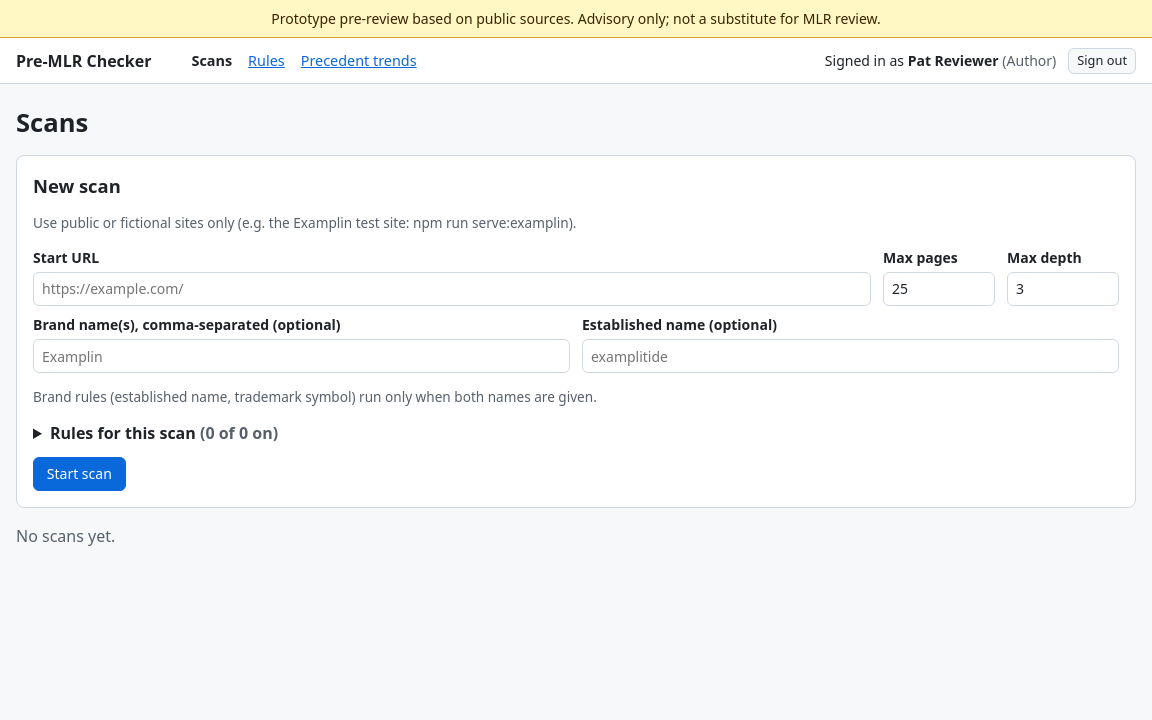
Test: Scans page › shows the server error when a scan cannot start
The width and height of the screenshot is (1152, 720).
In the field labelled "Start URL": (452, 289) top-left (33, 272), bottom-right (871, 306), type "https://x.test/"
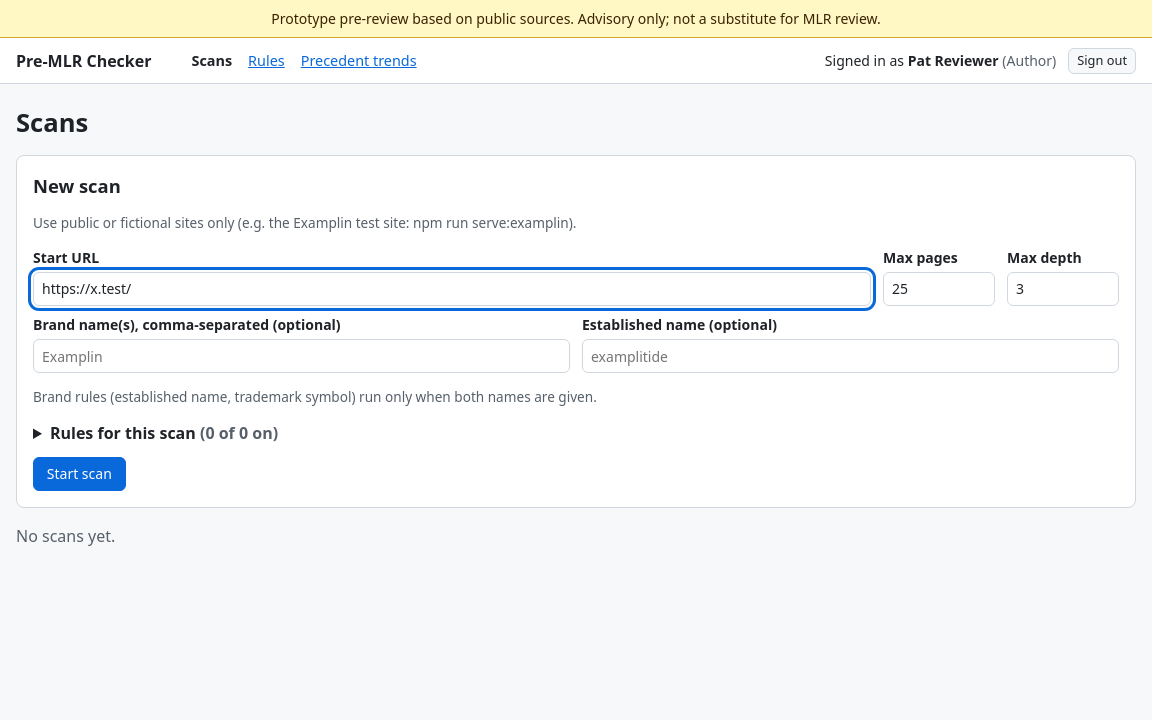
Click the button "Start scan": click(79, 474) top-left (33, 457), bottom-right (126, 491)
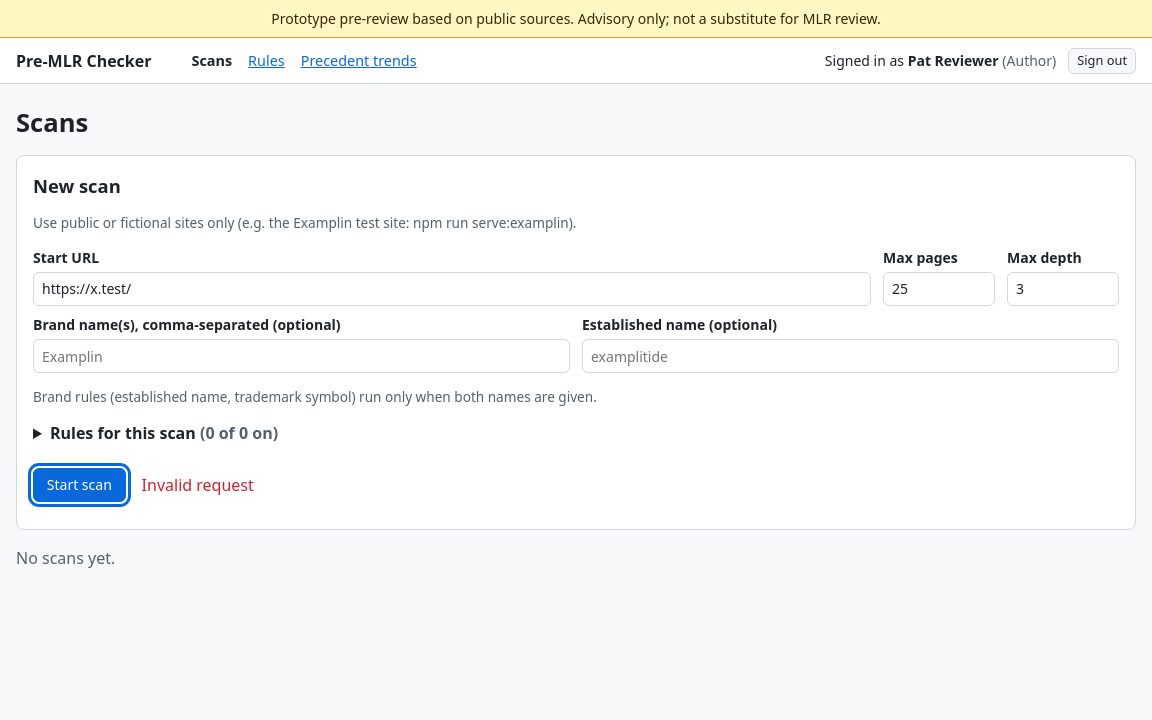
Check: the message reads "Invalid request", box top-left (142, 474), bottom-right (254, 496)
